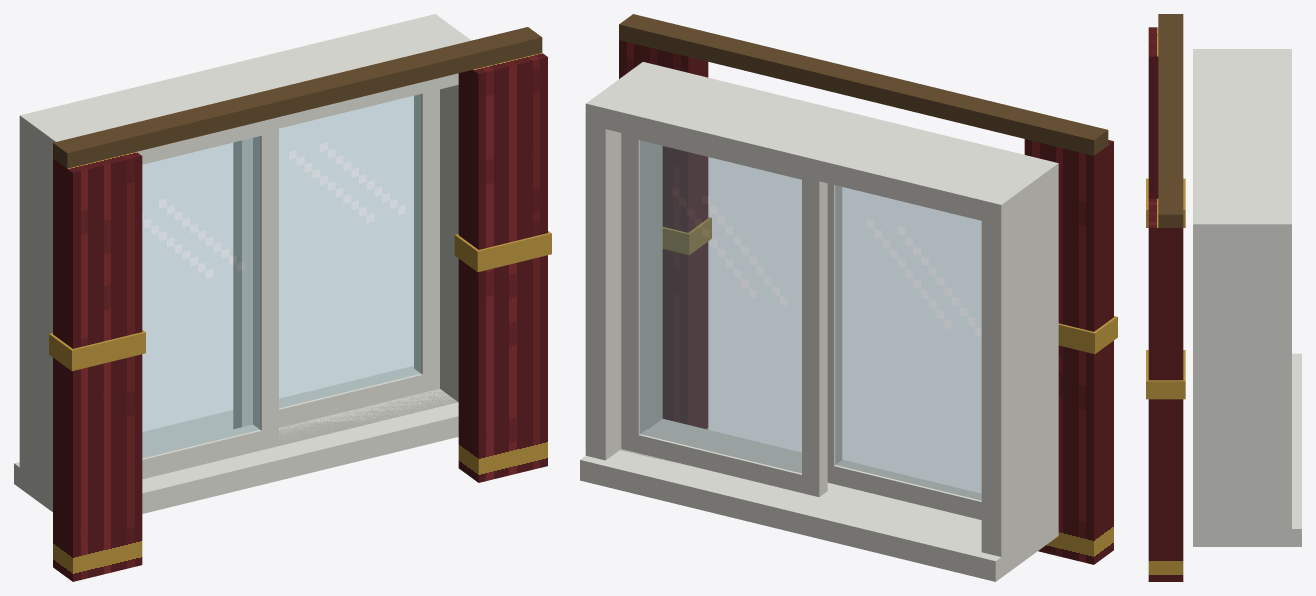
File: t_window_domestic.glb
3 views of the same model, side by side, from view 1: azimuth 30°, elevation 25°; view 2: azimuth 150°, elevation 25°; view 3: azimuth 270°, elevation 25° (orthographic). The views are drawn at different scales.
Parts seen in each view (by area): view 1: block_fixed-glass, block_curtain-1, block_curtain1, block_slider-glass, block_lintel, block_sill, block_rod, block_stile-1, block_slider-r, block_fixed-r, block_stile1, block_fixed-l (+5 smaller); view 2: block_fixed-glass, block_slider-glass, block_lintel, block_stile-1, block_curtain-1, block_sill, block_stile1, block_rod, block_curtain1, block_fixed-r, block_fixed-l, block_fixed-bottom (+5 smaller); view 3: block_stile1, block_lintel, block_curtain1, block_rod, block_sill, block_curtain-1, block_tie1, block_stile-1, block_tie-1.
Boxes of the visible parts, bbox=[...] form: block_fixed-glass: bbox=[279, 94, 421, 408]; block_curtain-1: bbox=[53, 152, 142, 581]; block_curtain1: bbox=[458, 53, 547, 482]; block_slider-glass: bbox=[142, 136, 260, 458]; block_lintel: bbox=[19, 14, 471, 161]; block_sill: bbox=[14, 366, 458, 513]; block_rod: bbox=[53, 27, 542, 168]; block_stile-1: bbox=[19, 113, 74, 510]; block_slider-r: bbox=[253, 129, 278, 448]; block_fixed-r: bbox=[414, 89, 439, 391]; block_stile1: bbox=[417, 14, 470, 401]; block_fixed-l: bbox=[233, 138, 252, 427]; block_fixed-glass: bbox=[640, 140, 801, 473]; block_slider-glass: bbox=[835, 185, 981, 500]; block_lintel: bbox=[585, 62, 1058, 225]; block_stile-1: bbox=[981, 160, 1058, 576]; block_curtain-1: bbox=[1024, 139, 1113, 564]; block_sill: bbox=[580, 419, 1058, 581]; block_stile1: bbox=[585, 62, 662, 460]; block_rod: bbox=[619, 14, 1108, 155]; block_curtain1: bbox=[619, 40, 708, 429]; block_fixed-r: bbox=[621, 134, 647, 452]; block_fixed-l: bbox=[802, 177, 827, 496]; block_fixed-bottom: bbox=[621, 429, 827, 496]; block_stile1: bbox=[1193, 216, 1291, 546]; block_lintel: bbox=[1193, 49, 1291, 242]; block_curtain1: bbox=[1148, 198, 1183, 581]; block_rod: bbox=[1158, 14, 1183, 227]; block_sill: bbox=[1193, 353, 1301, 546]; block_curtain-1: bbox=[1148, 27, 1158, 198]; block_tie1: bbox=[1146, 350, 1185, 399]; block_stile-1: bbox=[1193, 49, 1291, 57]; block_tie-1: bbox=[1146, 178, 1185, 227].
Size of the model in its own units: 0.97 by 0.82 by 0.315.
2 materials, 2 textured.
